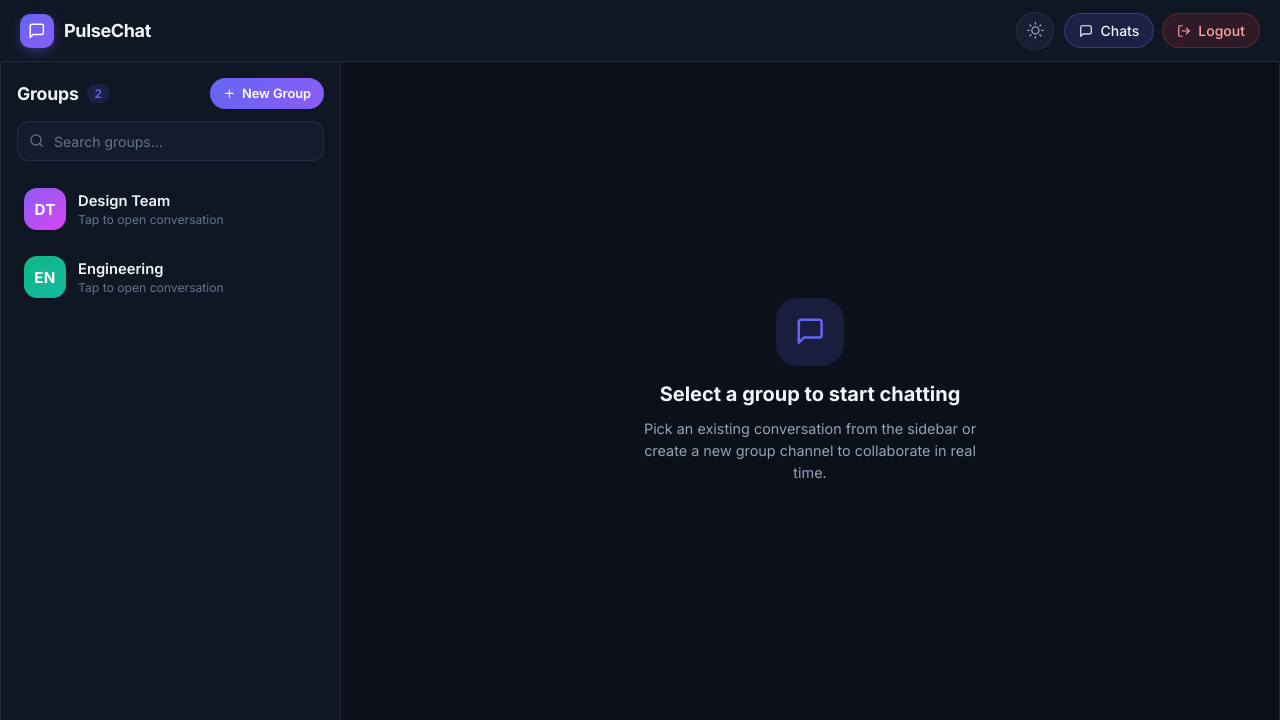
Scenario: renders groups, filters search, and loads messages when authenticated
Expected: the text "Design Team" is shown, [78,192,170,210]
Expected: the text "Engineering" is shown, [78,260,163,278]
Step 1. Type "Design" into the search field labelled "Search groups..." → [170, 141], box [17,121,324,161]
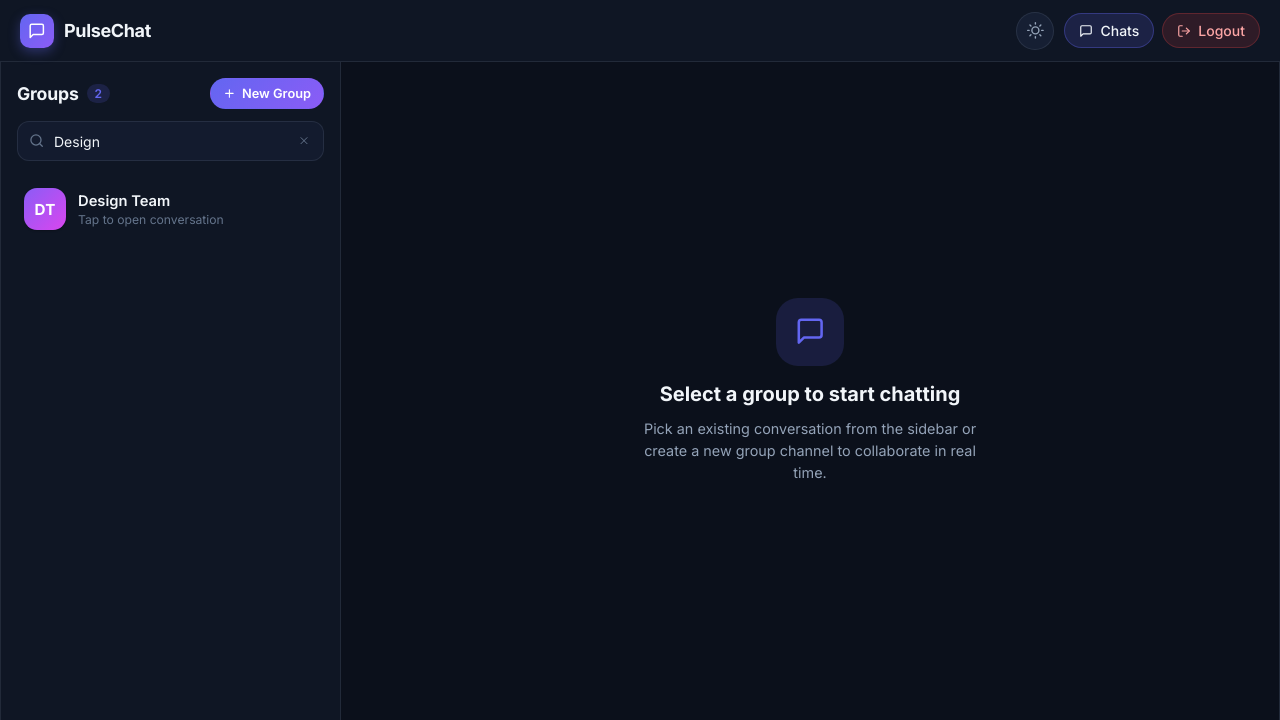
Expected: the button "Engineering" is gone
Step 2. Click the text "Design Team" → [124, 200], box [78,192,170,210]
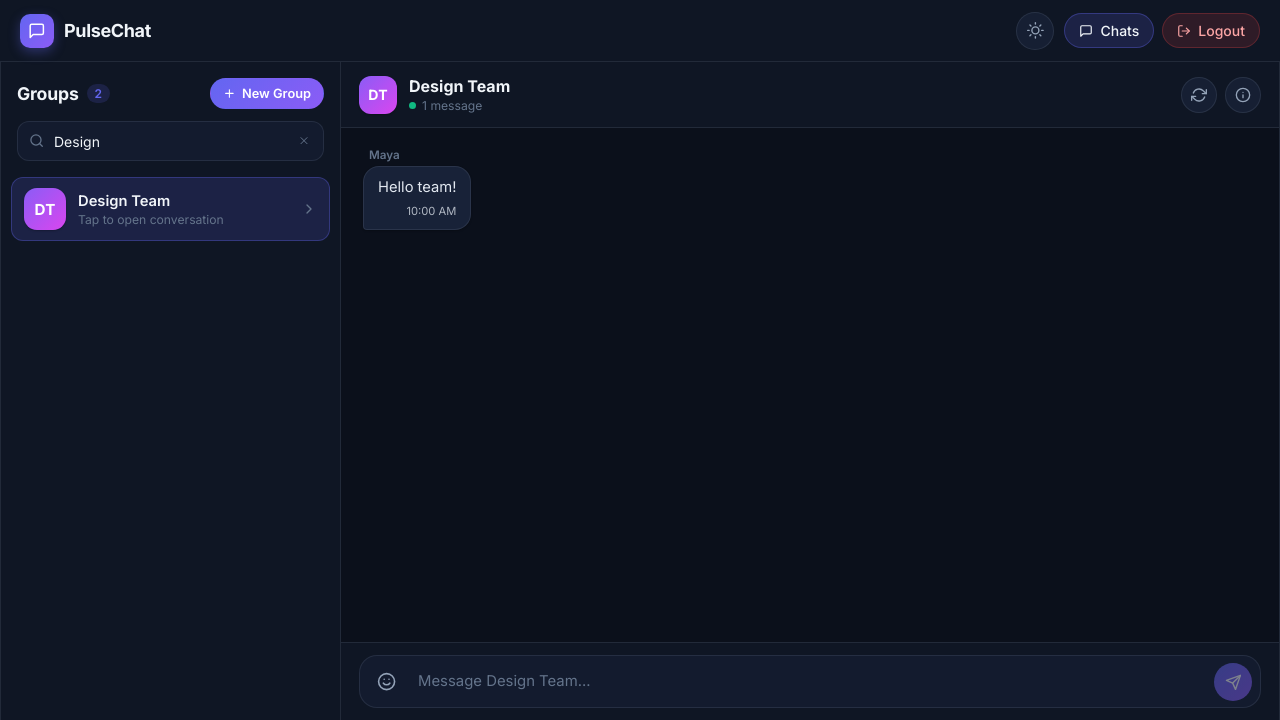
Expected: the text "Hello team!" is shown, [378,177,456,199]
Expected: the text "Maya" is shown, [369,148,400,162]
